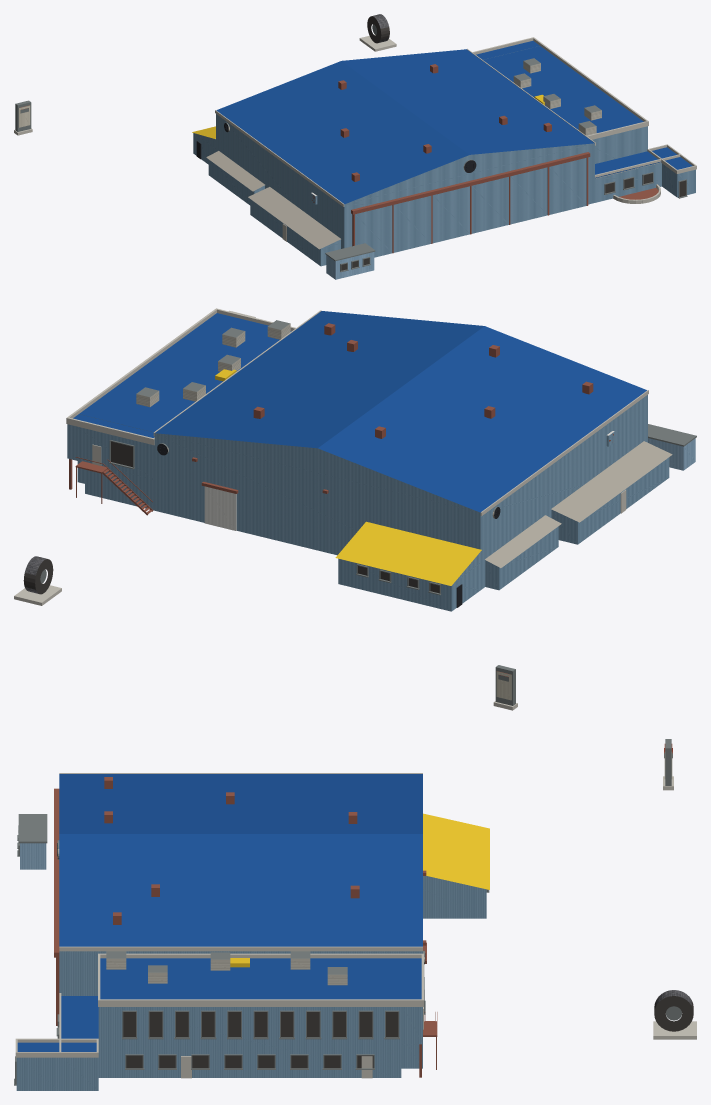
Rendered from cyxd_hangar30.gltf.
The picture shows the model from 3 angles, top to bottom: view 1: azimuth 30°, elevation 25°; view 2: azimuth 150°, elevation 25°; view 3: azimuth 270°, elevation 25°; orthographic projection. The views are drawn at different scales.
Parts seen in each view (by area): view 1: cyxd_hangar30; view 2: cyxd_hangar30; view 3: cyxd_hangar30.
Part boxes in pixels (bbox=[...]): cyxd_hangar30: bbox=[14, 14, 696, 279]; cyxd_hangar30: bbox=[14, 308, 696, 710]; cyxd_hangar30: bbox=[14, 739, 696, 1090].
Size of the model in its own units: 67.2 by 11.68 by 62.34.
